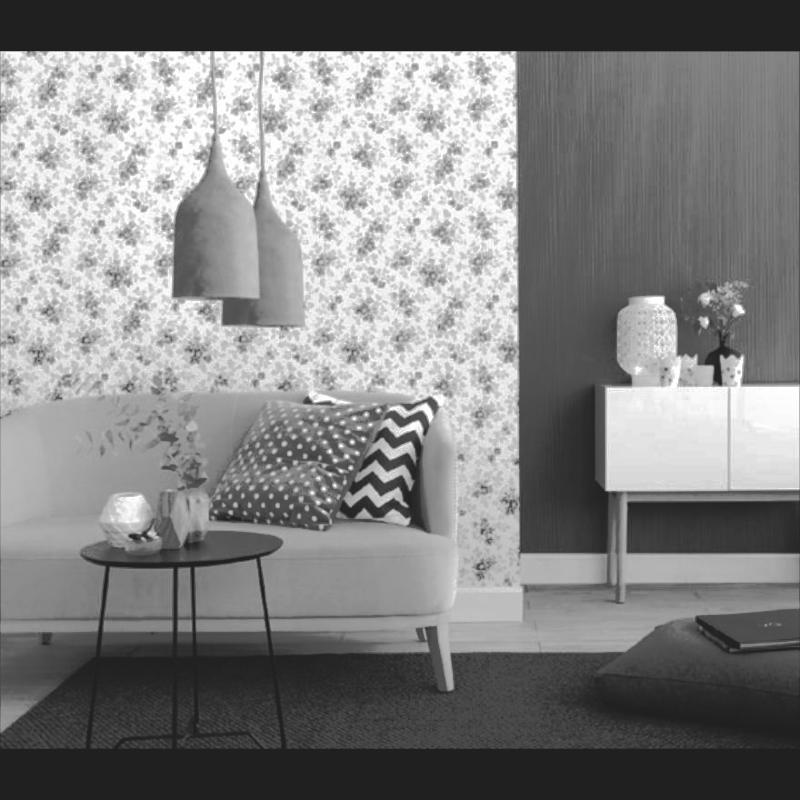pillow: (298, 390, 453, 530), (213, 403, 379, 523)
